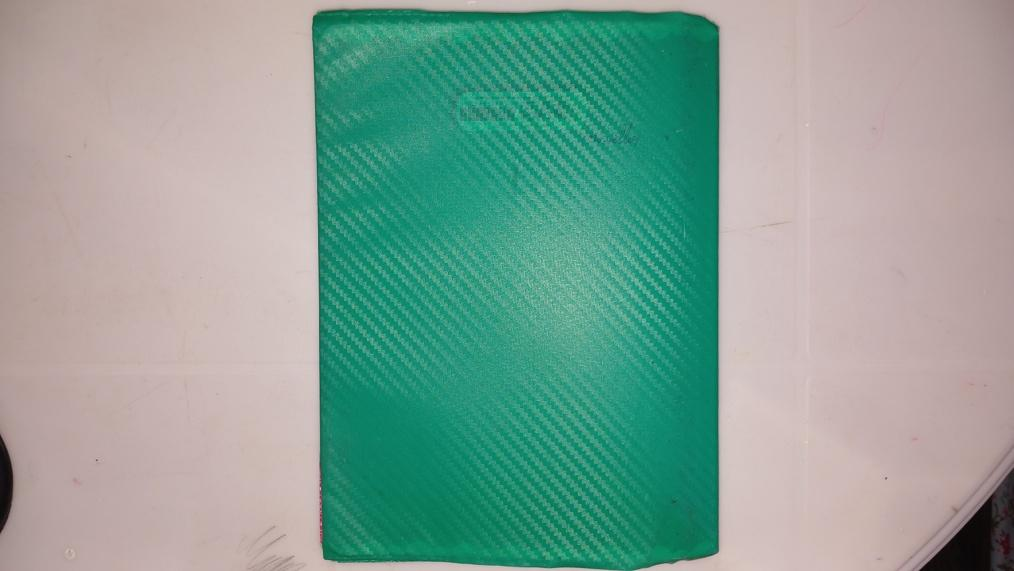notebook: (318, 16, 720, 565)
